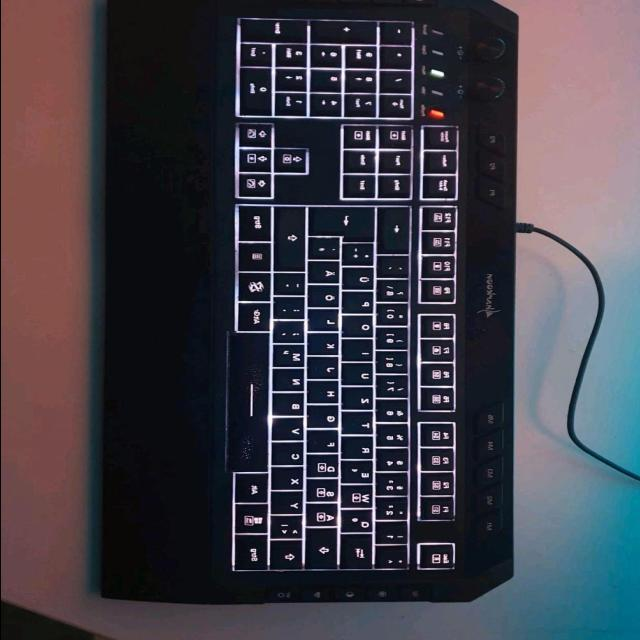0: (378, 306, 413, 328)
1: (378, 524, 412, 547)
2: (378, 501, 412, 523)
3: (378, 476, 412, 499)
4: (378, 451, 412, 474)
5: (378, 426, 413, 450)
6: (378, 402, 412, 426)
7: (378, 377, 413, 400)
8: (377, 354, 413, 376)
9: (378, 329, 413, 353)
a: (308, 506, 342, 530)
accent: (380, 259, 414, 281)
ae: (311, 263, 344, 286)
alt-left: (237, 475, 273, 506)
altgr-right: (240, 305, 275, 335)
b: (275, 395, 309, 419)
c: (275, 445, 308, 469)
caret: (378, 550, 411, 572)
comma: (276, 324, 310, 346)
d: (309, 457, 343, 481)
del: (381, 209, 415, 256)
e: (344, 463, 378, 486)
enter: (311, 209, 380, 244)
f: (309, 433, 343, 455)
g: (309, 408, 343, 430)
h: (310, 383, 344, 405)
hash: (311, 240, 344, 262)
i: (345, 342, 377, 364)
j: (310, 360, 344, 382)
k: (310, 336, 344, 358)
keyboard: (208, 6, 520, 597)
l: (311, 312, 343, 334)
less: (272, 519, 307, 543)
m: (275, 347, 309, 370)
minus: (277, 276, 309, 298)
n: (275, 371, 309, 395)
o: (344, 317, 378, 340)
oe: (311, 287, 344, 310)
p: (345, 294, 379, 316)
plus: (345, 246, 379, 268)
point: (276, 299, 309, 323)
q: (343, 512, 377, 536)
r: (344, 439, 378, 462)
s: (309, 482, 342, 505)
shift-left: (273, 543, 306, 573)
shift-lock: (308, 530, 341, 571)
shift-right: (276, 209, 310, 274)
space: (229, 335, 275, 474)
ss: (379, 283, 414, 305)
strg-left: (236, 536, 272, 574)
strg-right: (241, 207, 276, 245)
t: (345, 415, 378, 437)
tab: (343, 536, 377, 572)
u: (345, 366, 378, 388)
ue: (345, 269, 379, 293)
v: (275, 420, 309, 443)
w: (343, 487, 378, 511)
x: (274, 470, 308, 493)
y: (273, 494, 307, 517)
z: (344, 390, 378, 412)
